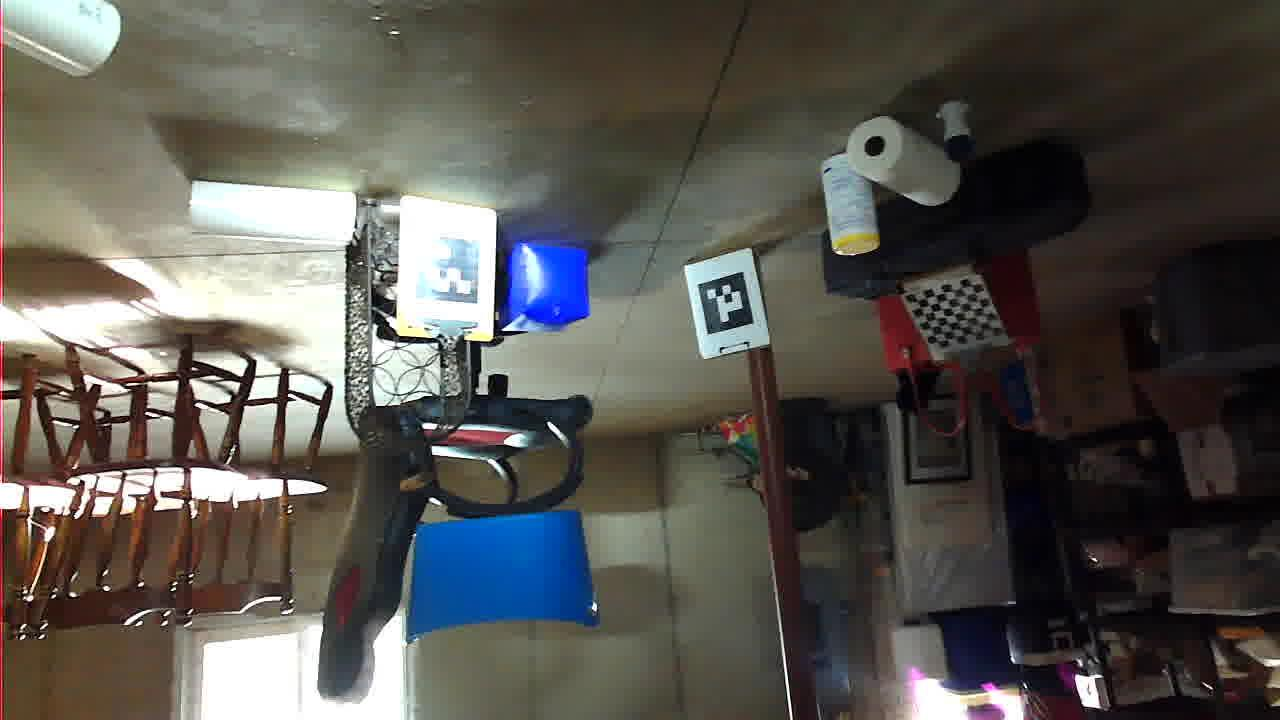coral: (925, 476, 1089, 540), (1161, 644, 1277, 719)
